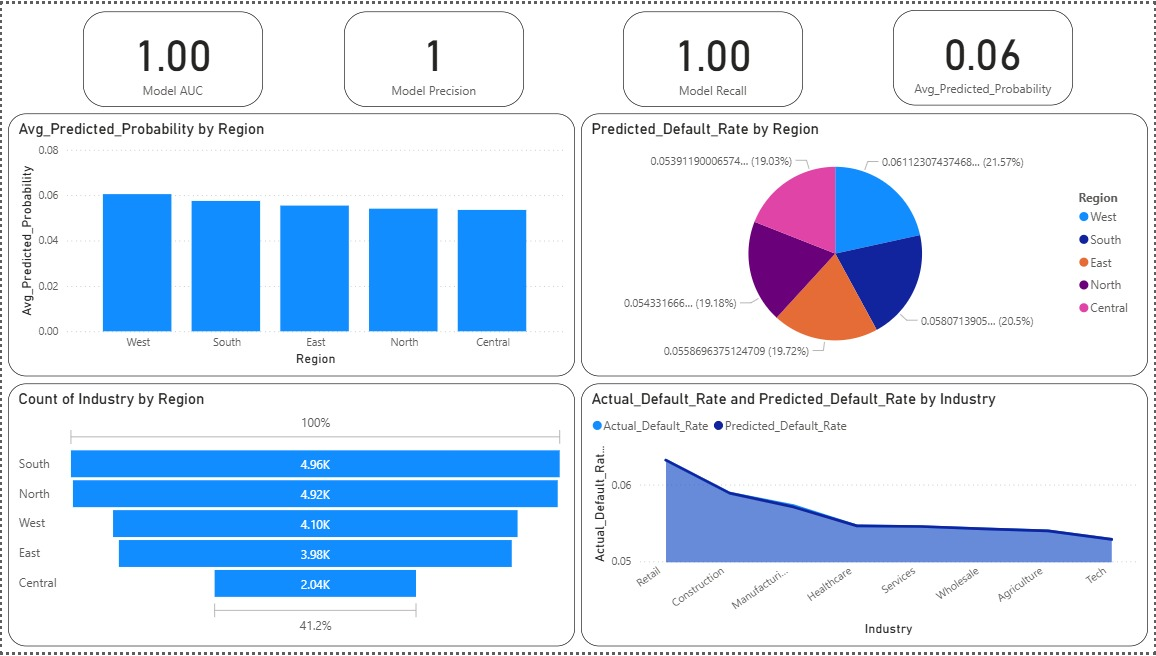

What the dashboard file says about the page in this screenshot:
{"tool":"powerbi","page":{"name":"Predictive Insights","canvas":[1280,720],"ordinal":2},"visuals":[{"type":"card","fields":{"Values":["ModelMatrics.Model AUC"]},"box":[90,8,200,106],"z":0},{"type":"card","fields":{"Values":["ModelMatrics.Model Precision"]},"box":[380,8,200,106],"z":1000},{"type":"card","fields":{"Values":["ModelMatrics.Model Recall"]},"box":[690,8,200,106],"z":2000},{"type":"card","fields":{"Values":["ConfusionMatrics.Avg_Predicted_Probability"]},"box":[990,6,200,106],"z":3000},{"type":"pieChart","fields":{"Category":["Customers.Region"],"Y":["ModelMatrics.Predicted_Default_Rate"]},"box":[644,122,630,292],"z":4000},{"type":"funnel","fields":{"Category":["Customers.Region"],"Y":["CountNonNull(Customers.Industry)"]},"box":[6,421,630,292],"z":5000},{"type":"clusteredColumnChart","fields":{"Category":["model_predictions.Region"],"Y":["ConfusionMatrics.Avg_Predicted_Probability"]},"box":[6,122,630,292],"z":6000},{"type":"areaChart","fields":{"Category":["Customers.Industry"],"Y":["ModelMatrics.Actual_Default_Rate","ModelMatrics.Predicted_Default_Rate"]},"box":[644,421,630,291.7],"z":7000}]}

Visuals, with their boxes in screenshot pixels (x1, y1, x2, y2), scaled from the page's 1280x720 canvas onto the 1156x656 screenshot:
card - ModelMatrics.Model AUC: rect(81, 7, 262, 104)
card - ModelMatrics.Model Precision: rect(343, 7, 524, 104)
card - ModelMatrics.Model Recall: rect(623, 7, 804, 104)
card - ConfusionMatrics.Avg_Predicted_Probability: rect(894, 5, 1075, 102)
pieChart - Customers.Region x ModelMatrics.Predicted_Default_Rate: rect(582, 111, 1151, 377)
funnel - Customers.Region x CountNonNull(Customers.Industry): rect(5, 384, 574, 650)
clusteredColumnChart - model_predictions.Region x ConfusionMatrics.Avg_Predicted_Probability: rect(5, 111, 574, 377)
areaChart - Customers.Industry x ModelMatrics.Actual_Default_Rate: rect(582, 384, 1151, 649)
